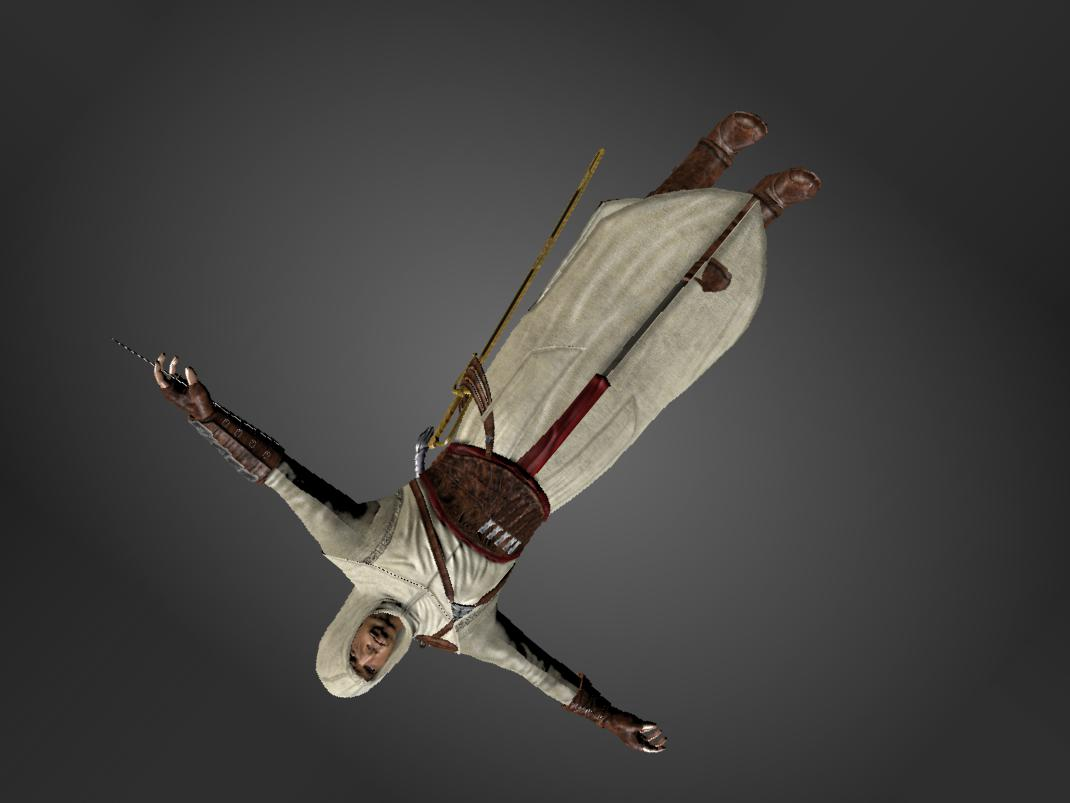clip: (699, 255, 732, 292)
